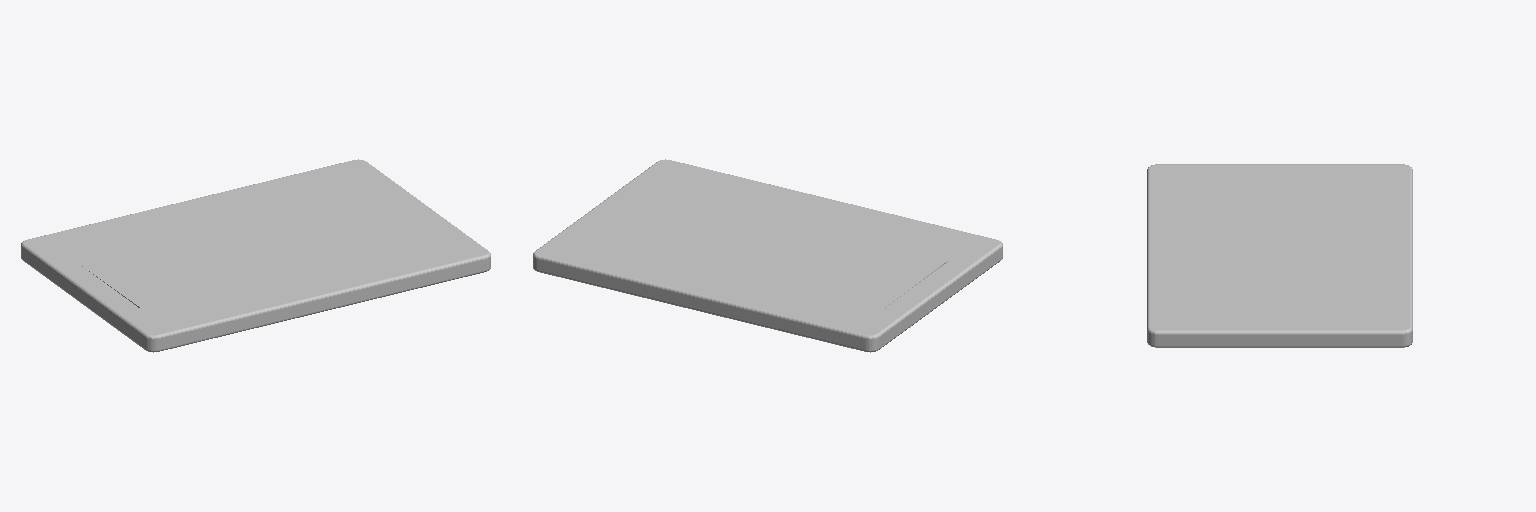
Rendered from cutting board.obj.
The picture shows the model from 3 angles: view 1: azimuth 30°, elevation 25°; view 2: azimuth 150°, elevation 25°; view 3: azimuth 270°, elevation 25°; orthographic projection.
Visible parts, largest first — view 1: Circle.001; view 2: Circle.001; view 3: Circle.001.
Boxes of the visible parts, x1,y1,x2,y2 form: Circle.001: [21, 159, 490, 352]; Circle.001: [533, 159, 1002, 352]; Circle.001: [1147, 164, 1412, 347].
Size of the model in its own units: 37.5 by 1.76 by 25.